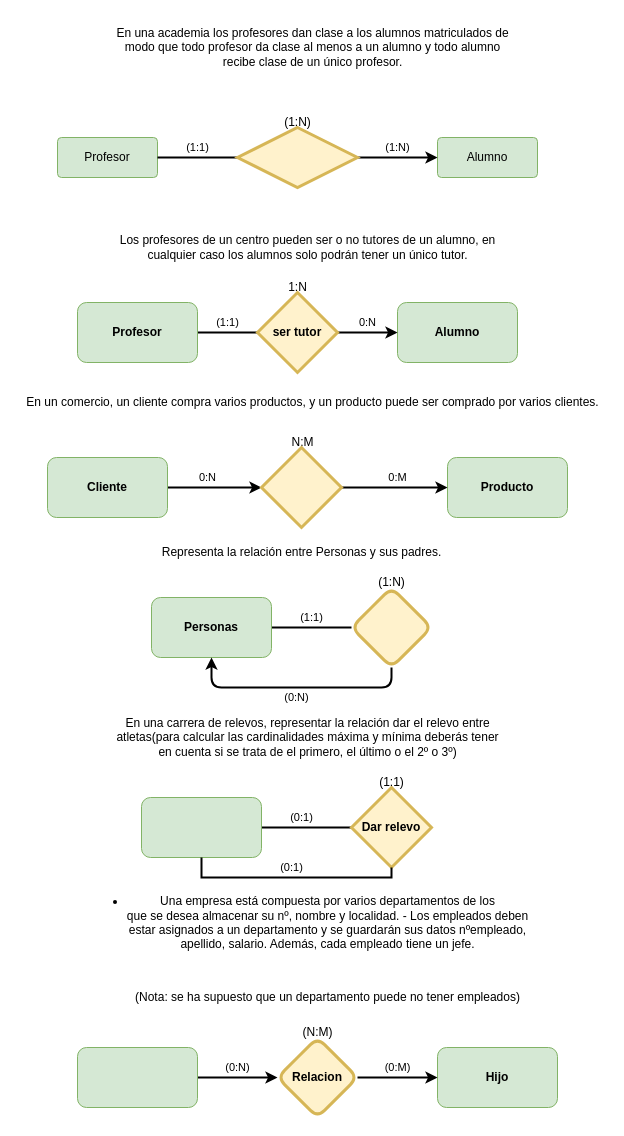
The diagram is 624 pixels wide and 1136 high, and some of its shapes have lost their labels. Here are the shapes that lost their labels. From the top down, the box of each, then its label:
(236, 126, 358, 188): Dar
(260, 446, 342, 528): Comprar
(350, 586, 432, 668): Es_padre
(140, 796, 262, 858): Atleta
(76, 1046, 198, 1108): Padres
